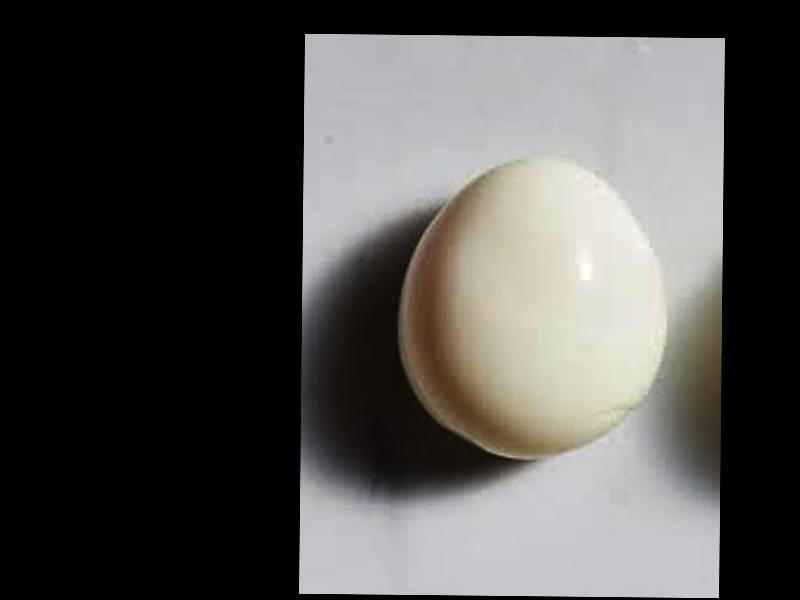Eggs: (396, 158, 668, 462)
